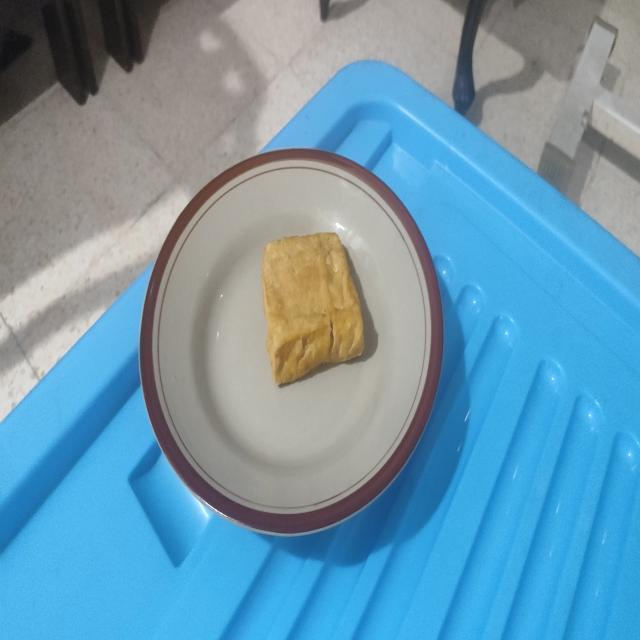tahu_goreng: (262, 233, 364, 386)
